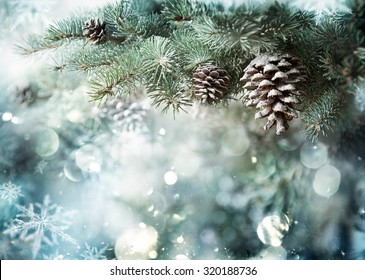Pc: (238, 54, 310, 133), (194, 63, 230, 104), (79, 18, 110, 44)
